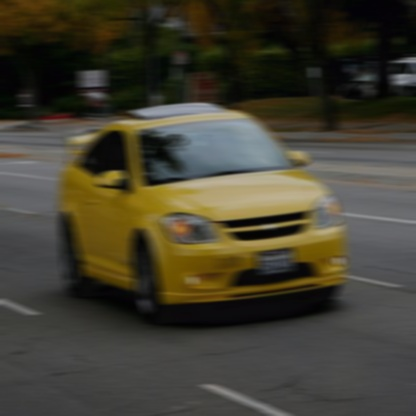Vehicle: (58, 100, 348, 328)
